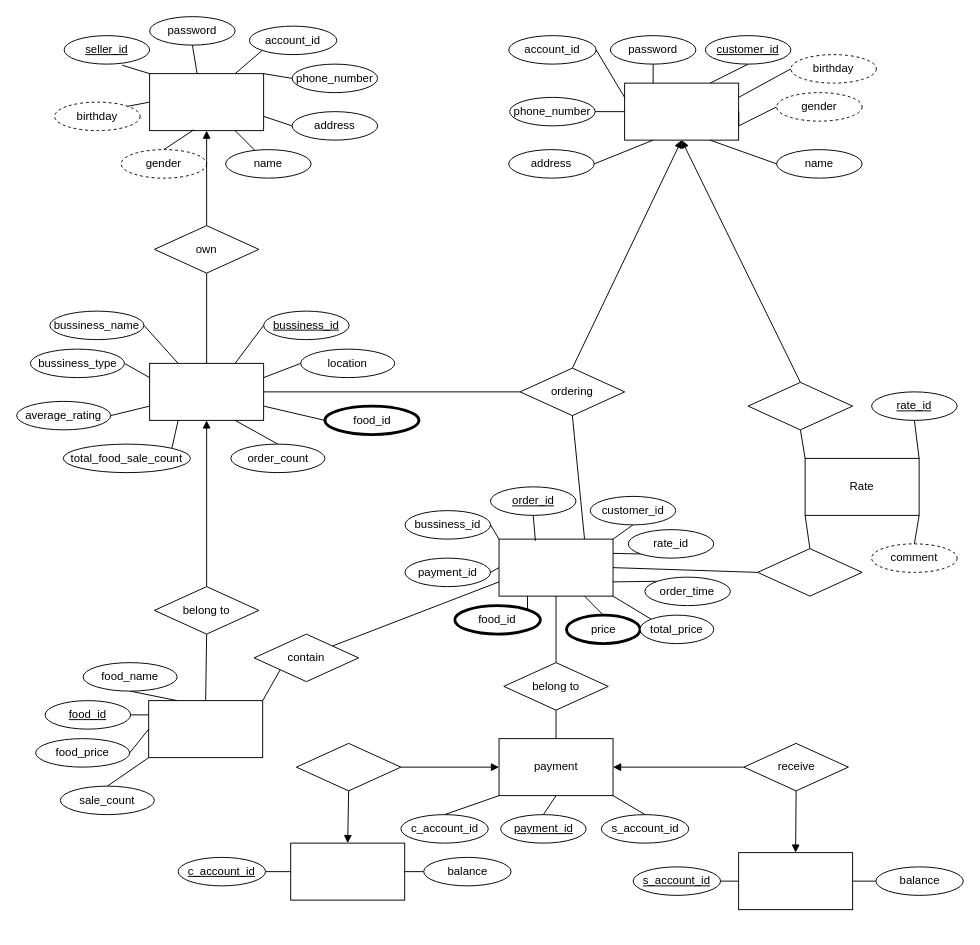
Image size: 980x945. Some labels were removed from this diagram. The box of each missing label's shape, as (x1, y1, x2, y2) in pixels:
bussiness: (149, 362, 264, 420)
c_account: (290, 842, 405, 900)
customer: (624, 82, 739, 140)
Food: (148, 700, 263, 758)
Order: (498, 538, 613, 596)
pay: (295, 742, 401, 791)
rating: (747, 381, 853, 430)
relate to: (757, 548, 862, 596)
s_account: (738, 852, 853, 910)
seller: (149, 73, 264, 131)
